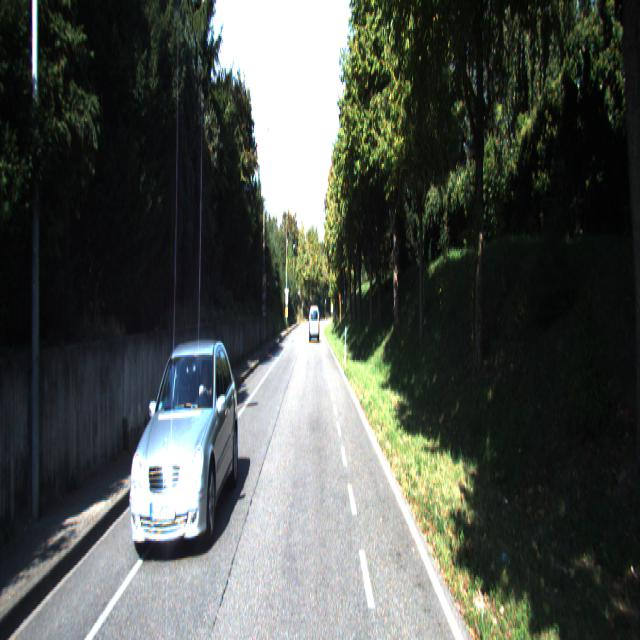Car: (127, 337, 243, 569), (308, 305, 320, 342)
